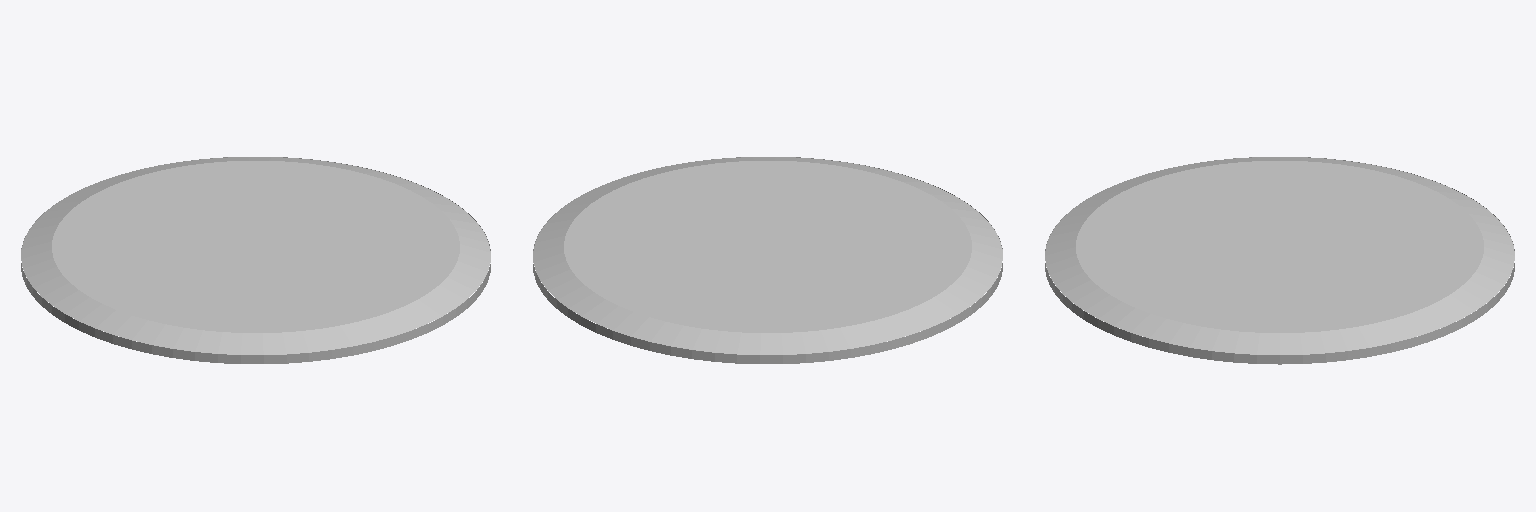
Rendered from dish.obj.
3 views of the same model, side by side, from view 1: azimuth 30°, elevation 25°; view 2: azimuth 150°, elevation 25°; view 3: azimuth 270°, elevation 25° (orthographic).
Parts seen in each view (by area): view 1: Cylinder.002, Cylinder.001; view 2: Cylinder.002, Cylinder.001; view 3: Cylinder.002, Cylinder.001.
Boxes of the visible parts, x1,y1,x2,y2 form: Cylinder.002: [21, 157, 490, 354]; Cylinder.001: [21, 157, 490, 363]; Cylinder.002: [533, 157, 1002, 354]; Cylinder.001: [533, 157, 1002, 363]; Cylinder.002: [1045, 157, 1514, 354]; Cylinder.001: [1045, 157, 1514, 364].
Size of the model in its own units: 2 by 0.0853 by 2.